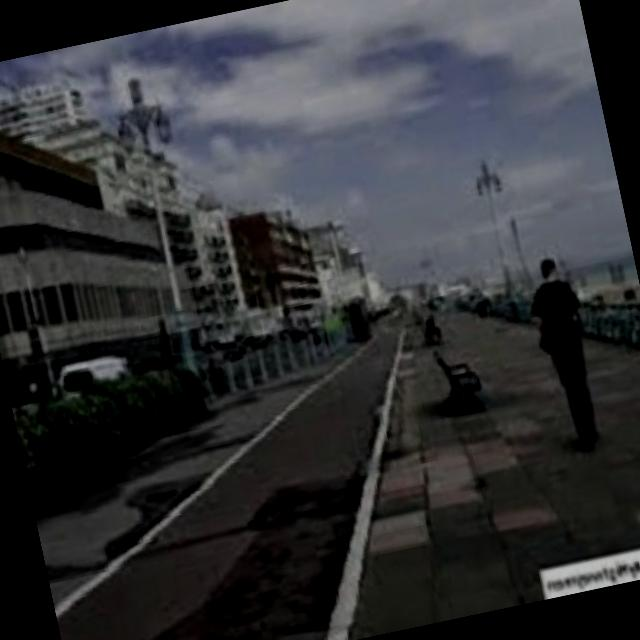Person: (516, 245, 618, 466)
